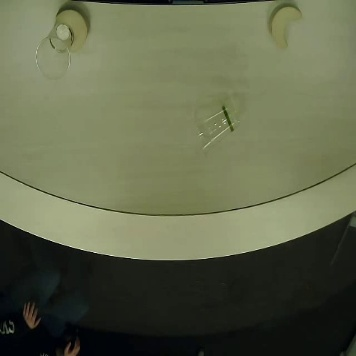empty_cup: (189, 99, 247, 155), (34, 22, 78, 85)
puck: (267, 1, 303, 52), (52, 6, 90, 51)
